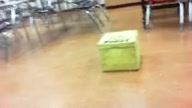cube: (97, 30, 139, 72)
